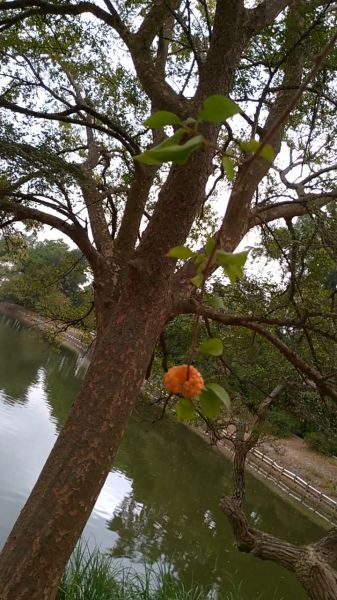eggs: (162, 360, 210, 404)
